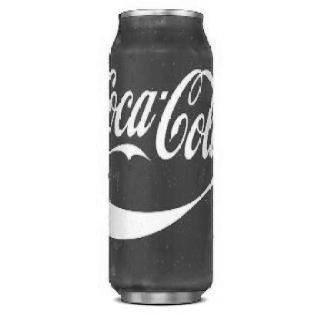alumunium_can: (108, 6, 215, 306)
